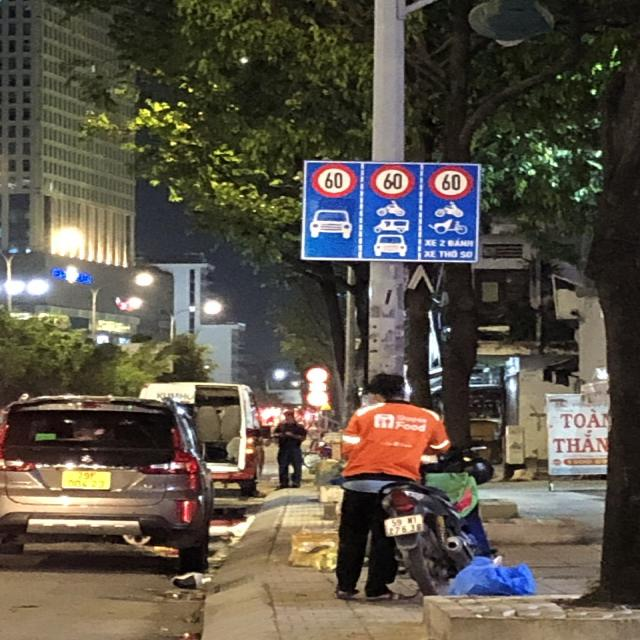Bien bao toc do toi da cho phep: (363, 160, 419, 202), (307, 158, 360, 200), (424, 161, 476, 200)
